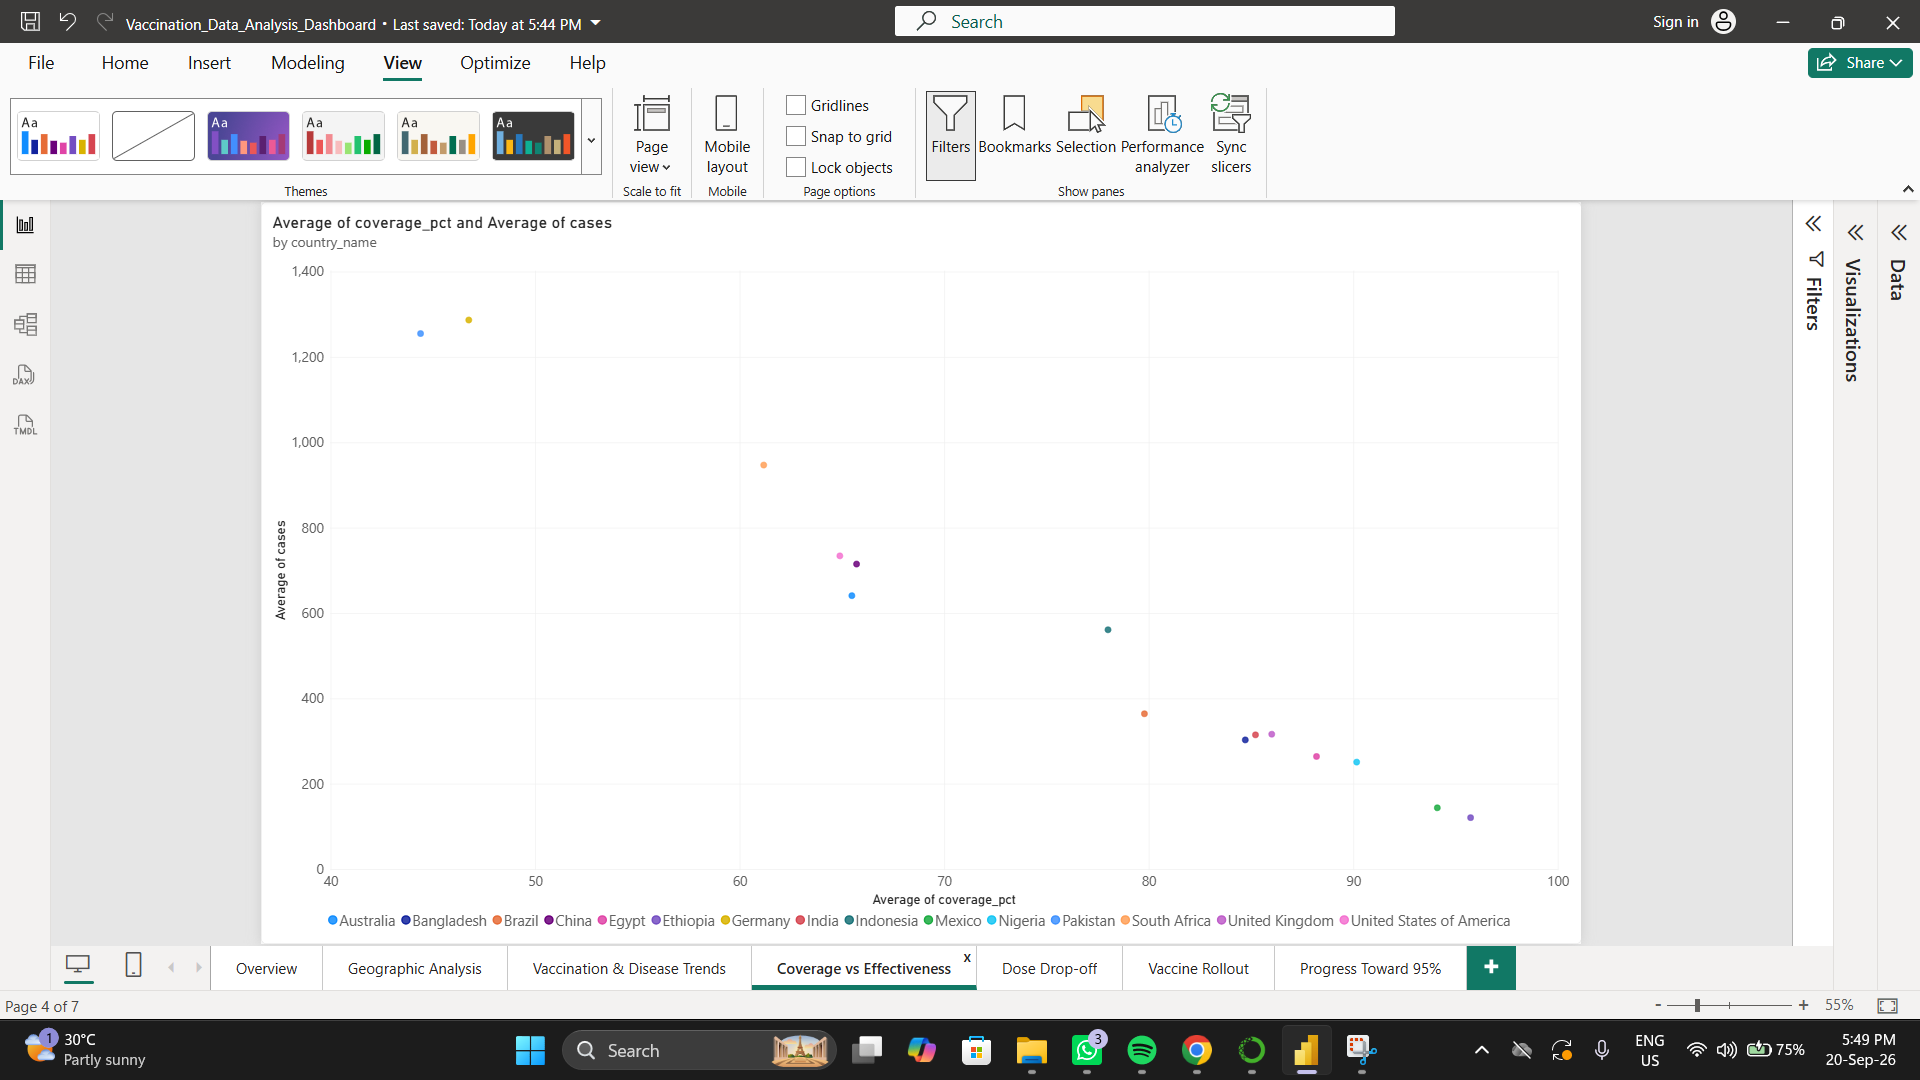

What the dashboard file says about the page in this screenshot:
{"tool":"powerbi","page":{"name":"Coverage vs Effectiveness","canvas":[1920,1080],"ordinal":3},"visuals":[{"type":"scatterChart","fields":{"Series":["dim_country.country_name"],"X":["Avg(fact_coverage.coverage_pct)"],"Y":["Avg(fact_reported_cases.cases)"]},"box":[0,0,1920.5,1079.5],"z":0}]}

Visuals, with their boxes on the page's 1920x1080 design canvas (x1, y1, x2, y2). These are canvas units, not pixel positions in the 1920x1080 screenshot, which may show the page scaled, cropped or inside an application window:
scatterChart - dim_country.country_name x Avg(fact_coverage.coverage_pct): locate(0, 0, 1920, 1080)
